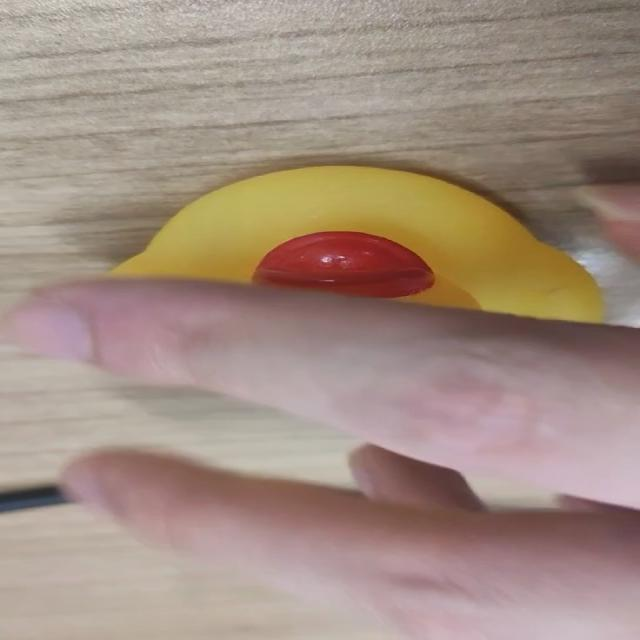rubber-duck: (112, 165, 600, 320)
